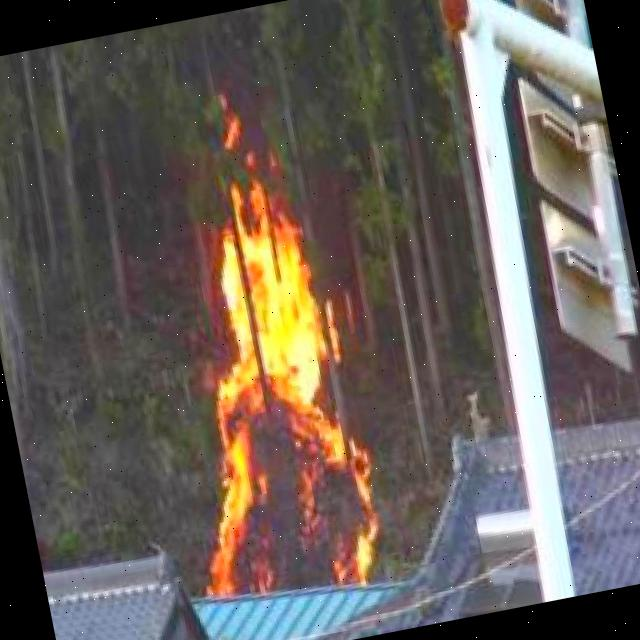fire: (154, 169, 391, 608)
